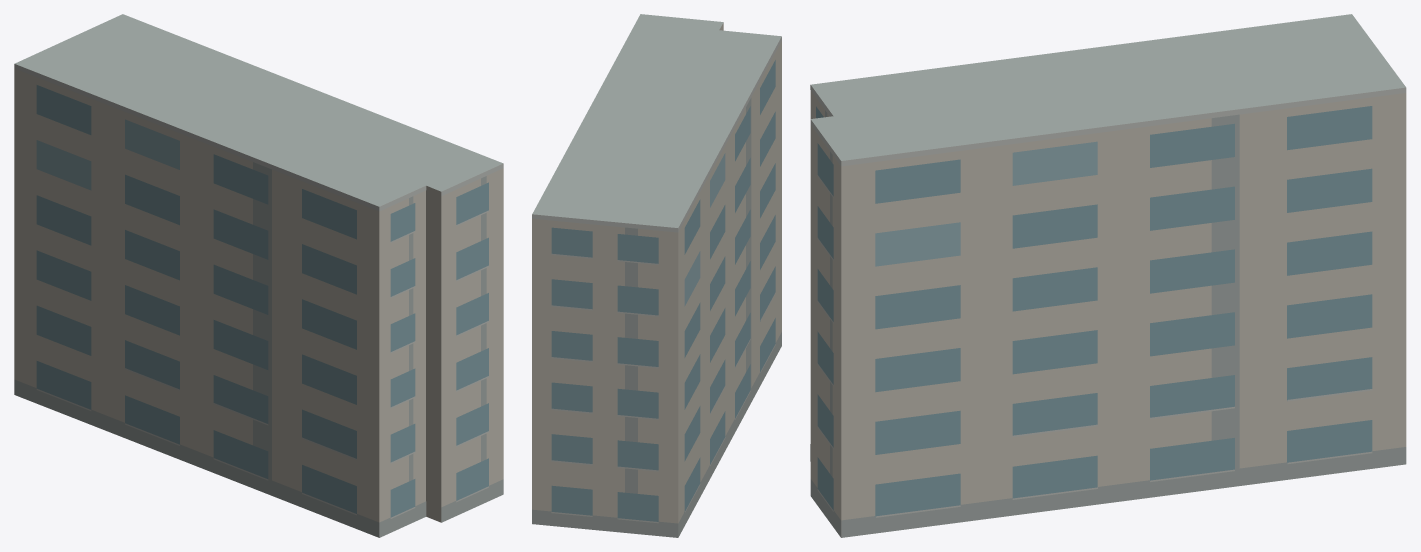
File: survey-upis-32619367.glb
The picture shows the model from 3 angles, left to right: view 1: azimuth 30°, elevation 25°; view 2: azimuth 150°, elevation 25°; view 3: azimuth 270°, elevation 25°; orthographic projection. The views are drawn at different scales.
Parts seen in each view (by area): view 1: survey-upis-32619367.tmp; view 2: survey-upis-32619367.tmp; view 3: survey-upis-32619367.tmp.
Part boxes in pixels (left/top/right/bottom): survey-upis-32619367.tmp: left=14, top=14, right=503, bottom=537; survey-upis-32619367.tmp: left=532, top=14, right=781, bottom=537; survey-upis-32619367.tmp: left=810, top=14, right=1406, bottom=537.
Bounding box in the file's own units: 14.32 × 17.1 × 24.51.
